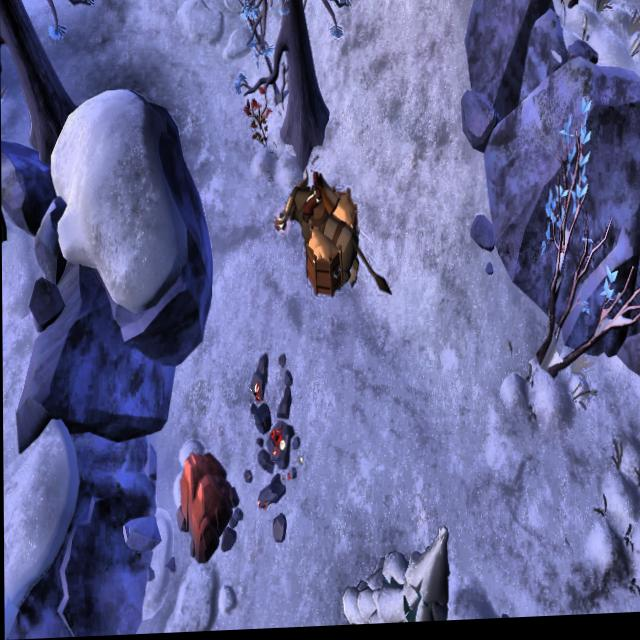rock_t5: (176, 450, 237, 564)
